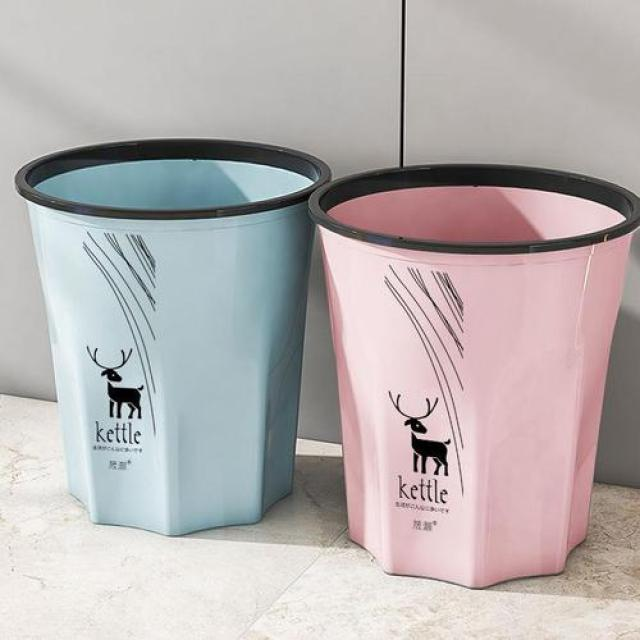dustbin: (306, 153, 640, 598), (11, 132, 336, 543)
